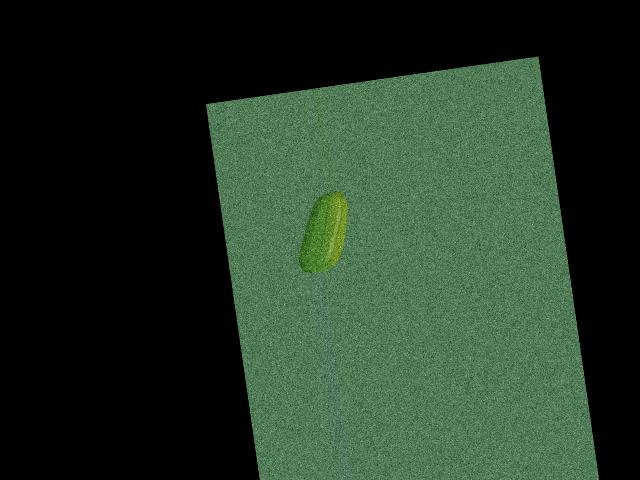cucumber: (289, 189, 355, 275)
